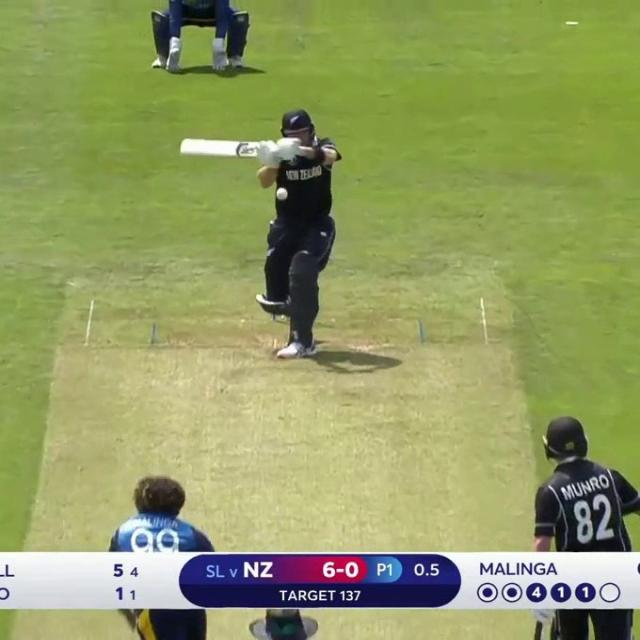bat: (171, 134, 260, 162), (533, 619, 546, 640)
toe: (175, 137, 187, 156)
